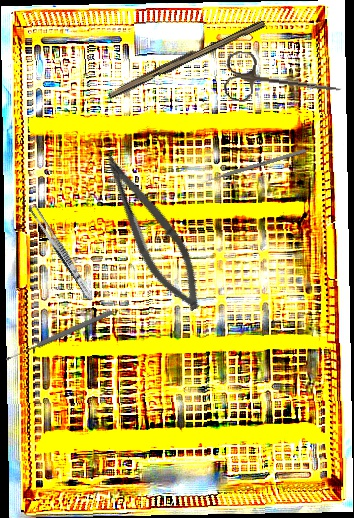Dressing Forceps: (26, 203, 97, 303)
Iris Scissors: (222, 50, 345, 112)
Micro Scissor: (84, 147, 219, 319)
Pusher: (197, 148, 307, 186)
Scalpel Handle: (105, 14, 267, 103)
Surgical Spoon: (4, 308, 114, 363)
